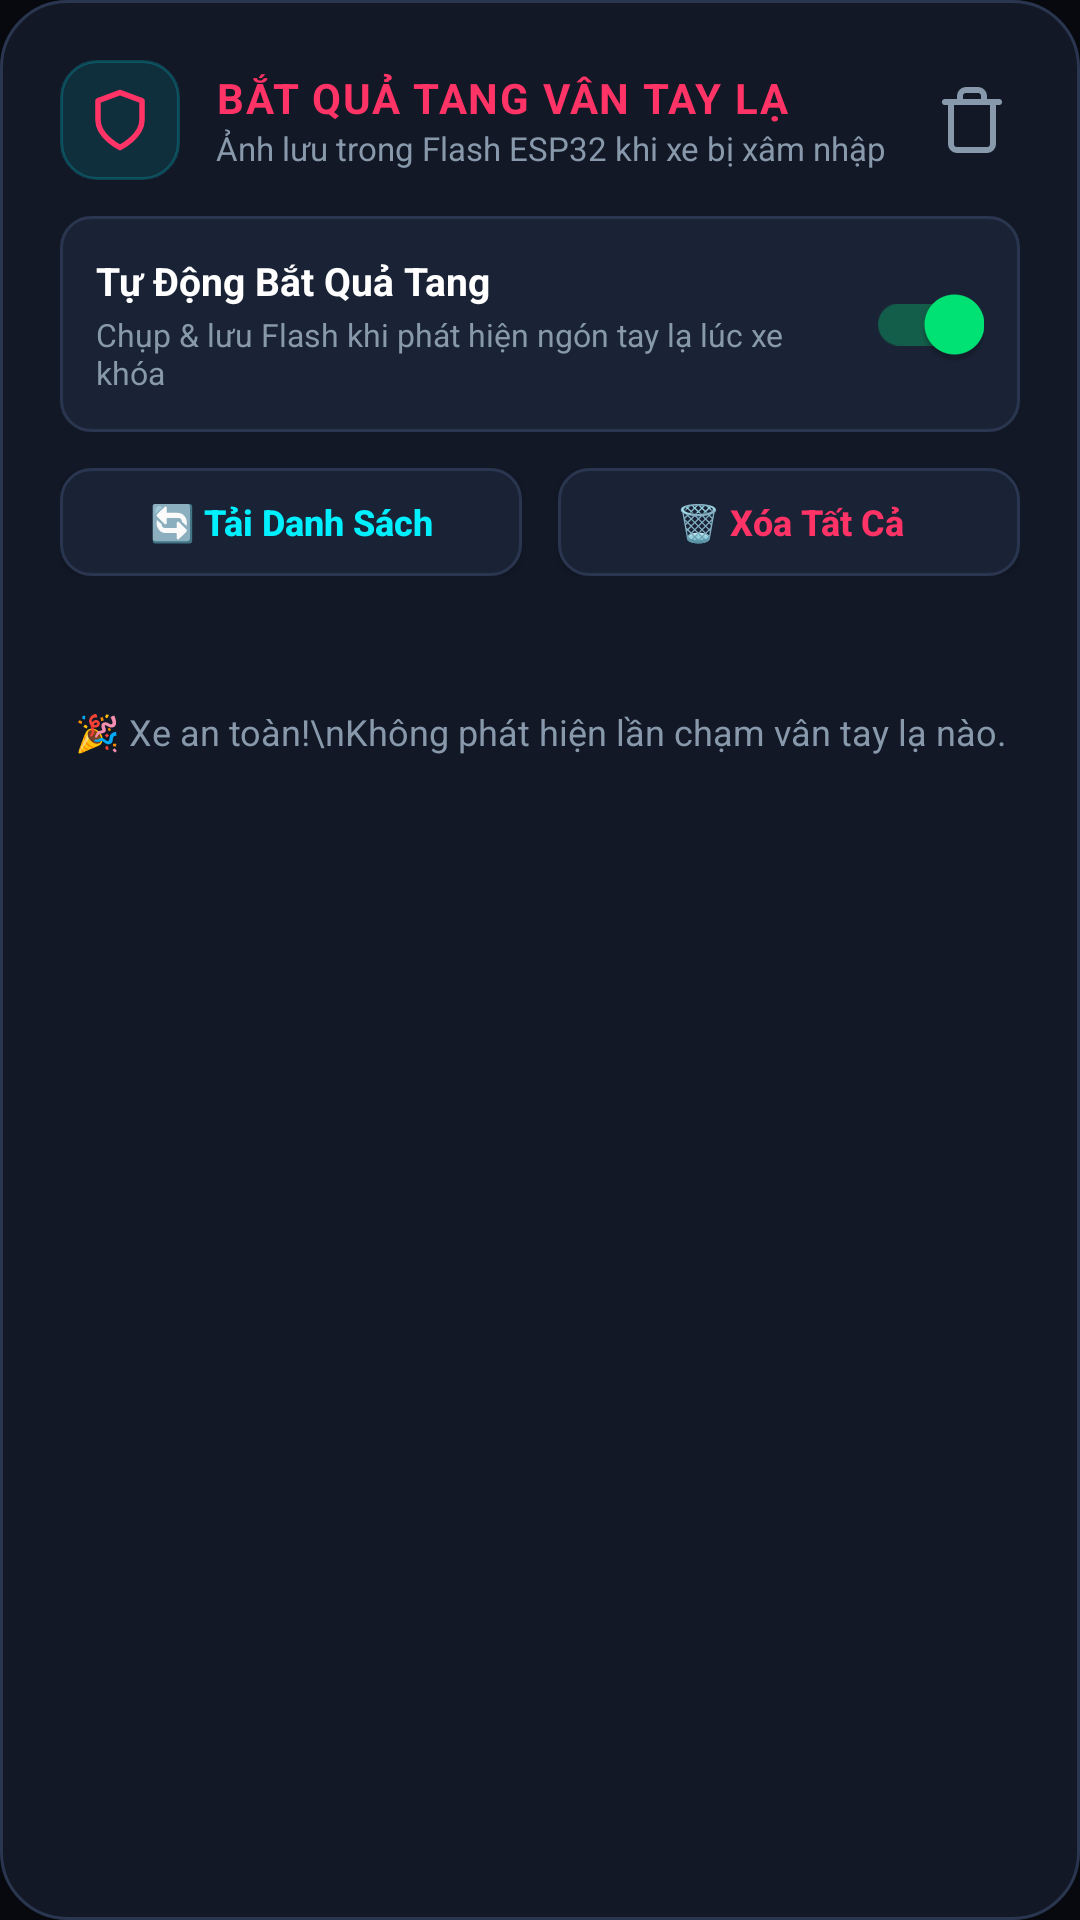

Icon bounding boxes for this 1080px x 1920px phone screenshot, format (x1, y1, x2, y2):
delete: (942, 87, 1002, 153)
shield: (95, 89, 145, 151)
